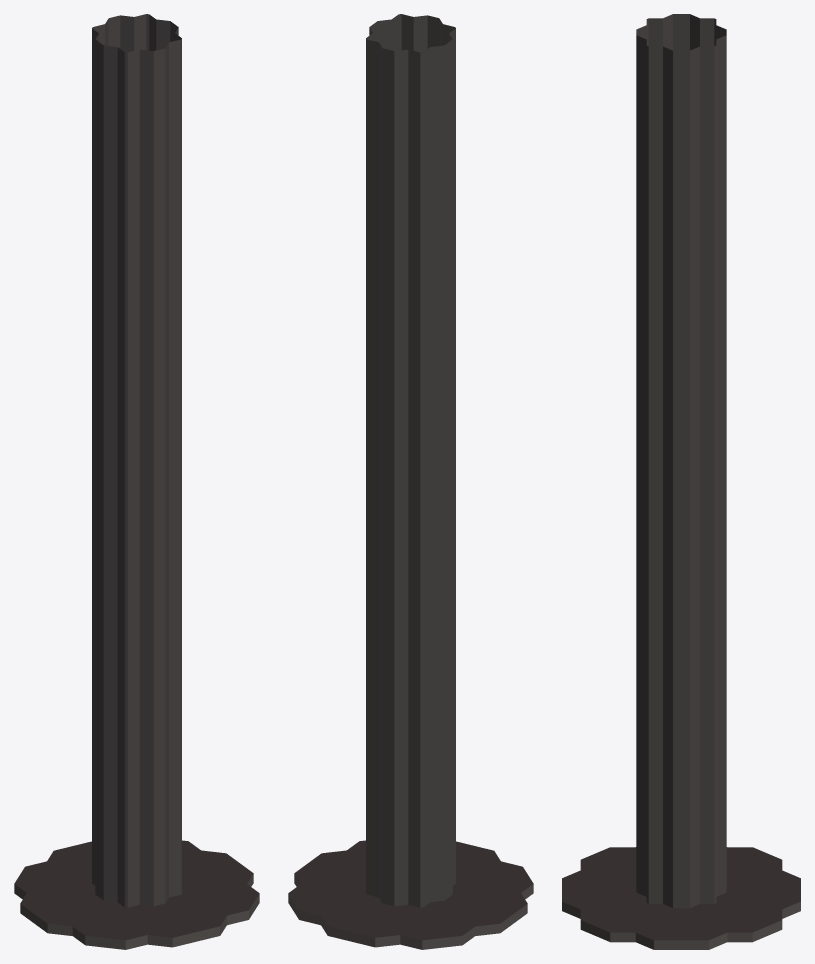
File: Arena_platform.fbx
3 views of the same model, side by side, from view 1: azimuth 30°, elevation 25°; view 2: azimuth 150°, elevation 25°; view 3: azimuth 270°, elevation 25° (orthographic).
Visible parts, largest first — view 1: platform; view 2: platform; view 3: platform.
Part boxes in pixels (box(x1,y1,x2,y2)): platform: box(14, 14, 259, 949); platform: box(288, 14, 533, 949); platform: box(562, 14, 800, 949).
Bounding box in the file's own units: 1256 × 5033 × 1256.
